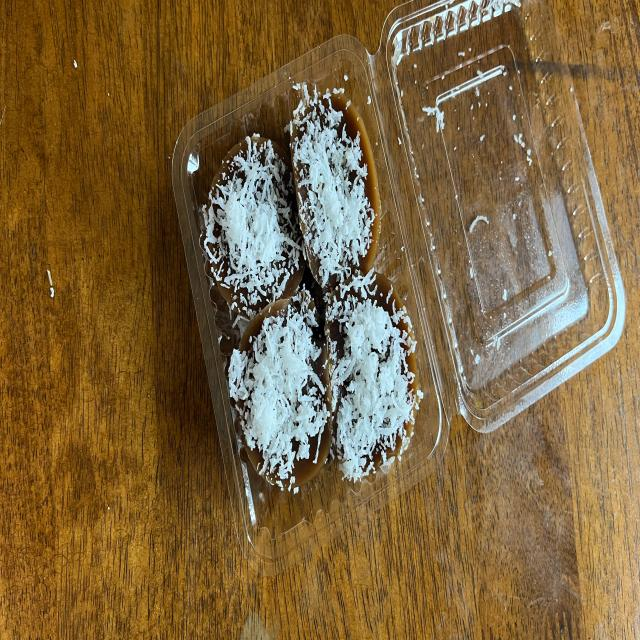Kuih lompang: (228, 289, 331, 496), (326, 271, 422, 482), (200, 136, 305, 318), (290, 87, 381, 291)
